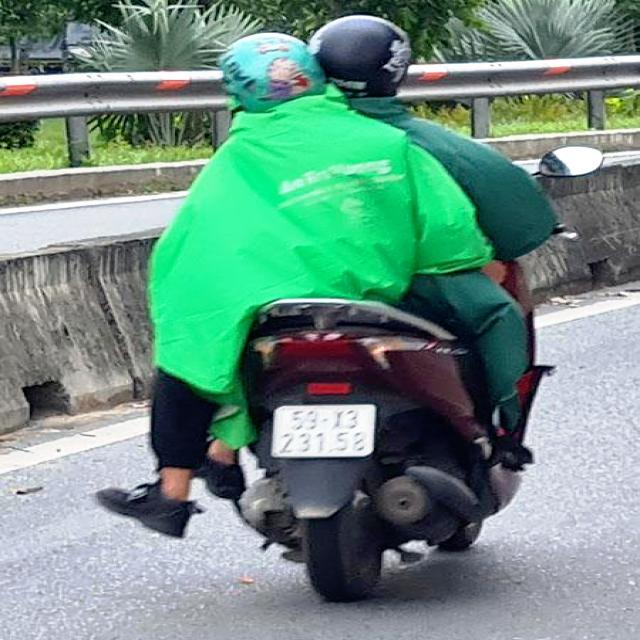license_plate: (271, 405, 377, 458)
